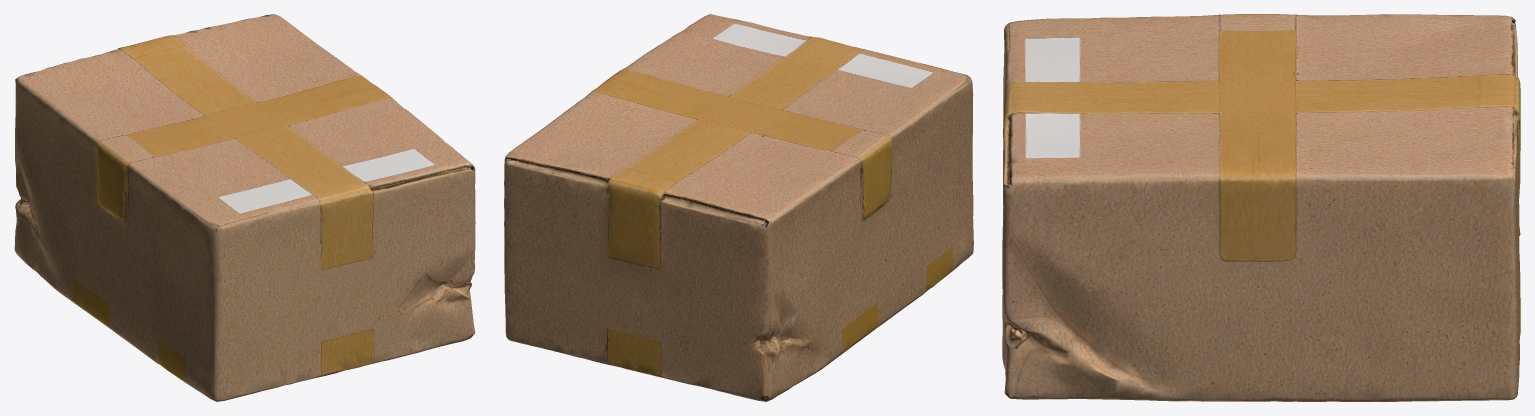
Rendered from ParcelBox.glb.
The picture shows the model from 3 angles, left to right: view 1: azimuth 30°, elevation 25°; view 2: azimuth 150°, elevation 25°; view 3: azimuth 270°, elevation 25°; orthographic projection. The views are drawn at different scales.
Parts seen in each view (by area): view 1: texture_mapping; view 2: texture_mapping; view 3: texture_mapping.
Boxes of the visible parts, left/top/right/bottom form: texture_mapping: left=14, top=14, right=475, bottom=401; texture_mapping: left=504, top=14, right=973, bottom=401; texture_mapping: left=1002, top=14, right=1520, bottom=401.
Size of the model in its own units: 0.7716 by 0.4961 by 0.9979.
Materials: 1 (1 with a texture image).
